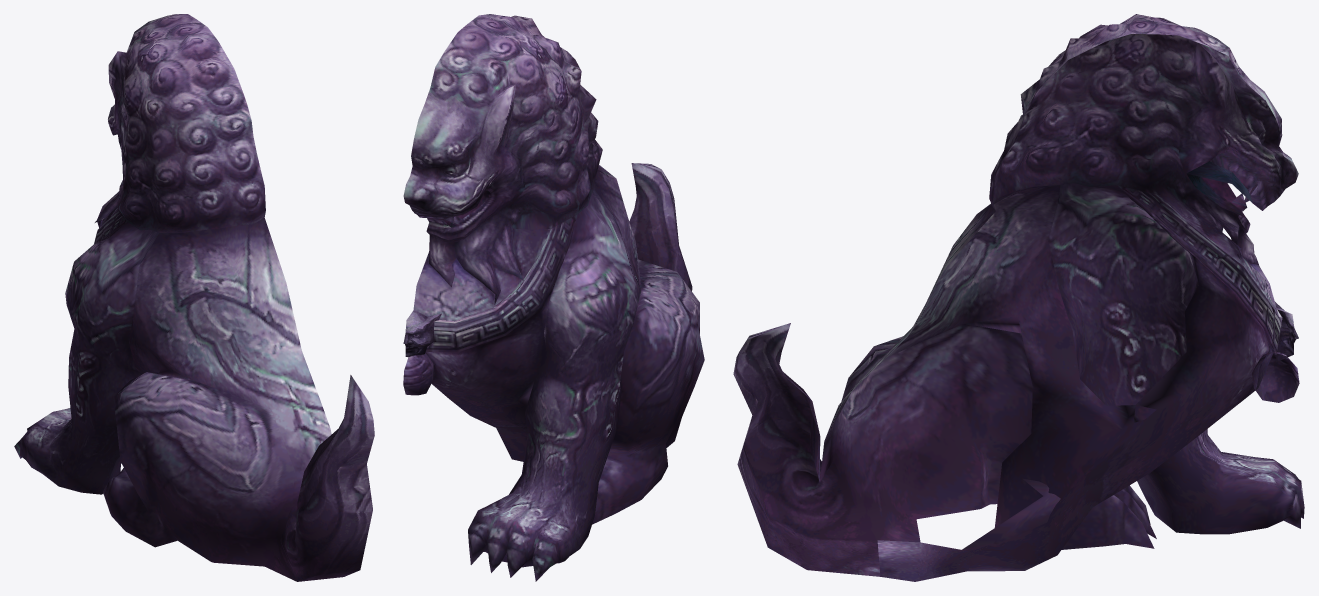
The model's file is MainStatue.FBX.
The picture shows the model from 3 angles, left to right: view 1: azimuth 30°, elevation 25°; view 2: azimuth 150°, elevation 25°; view 3: azimuth 270°, elevation 25°; orthographic projection. The views are drawn at different scales.
Parts seen in each view (by area): view 1: MainStatue; view 2: MainStatue; view 3: MainStatue.
Part boxes in pixels (x1,y1,x2,y2): MainStatue: (14,14,374,581); MainStatue: (403,14,704,581); MainStatue: (733,14,1304,581).
Bounding box in the file's own units: 24.24 × 76.89 × 72.63.
